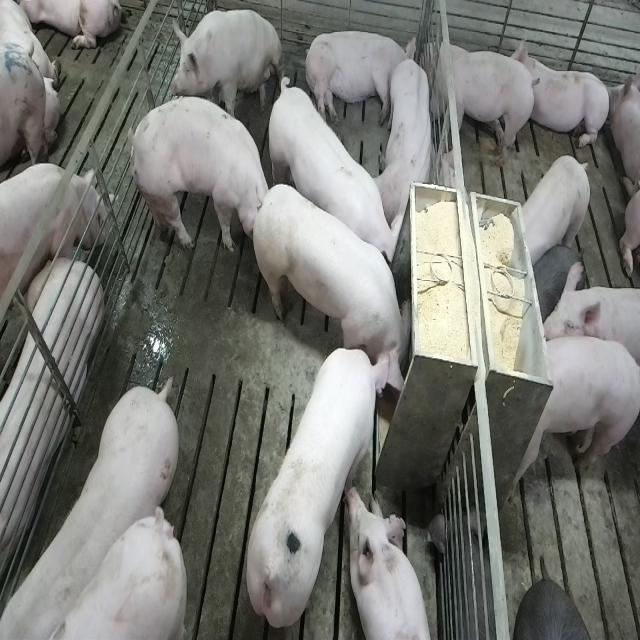Feeding: (243, 342, 397, 630), (258, 174, 420, 384)
Lateral_lying: (0, 253, 102, 596), (303, 28, 417, 127)
Sitting: (170, 8, 284, 125)
Standing: (5, 374, 184, 635), (264, 72, 399, 282), (123, 93, 265, 259), (504, 337, 638, 506), (421, 29, 537, 171), (0, 165, 106, 308), (538, 262, 637, 391), (512, 154, 592, 265)
Sternal_lying: (347, 487, 433, 640), (516, 34, 612, 154), (376, 54, 437, 228), (608, 56, 640, 208)
